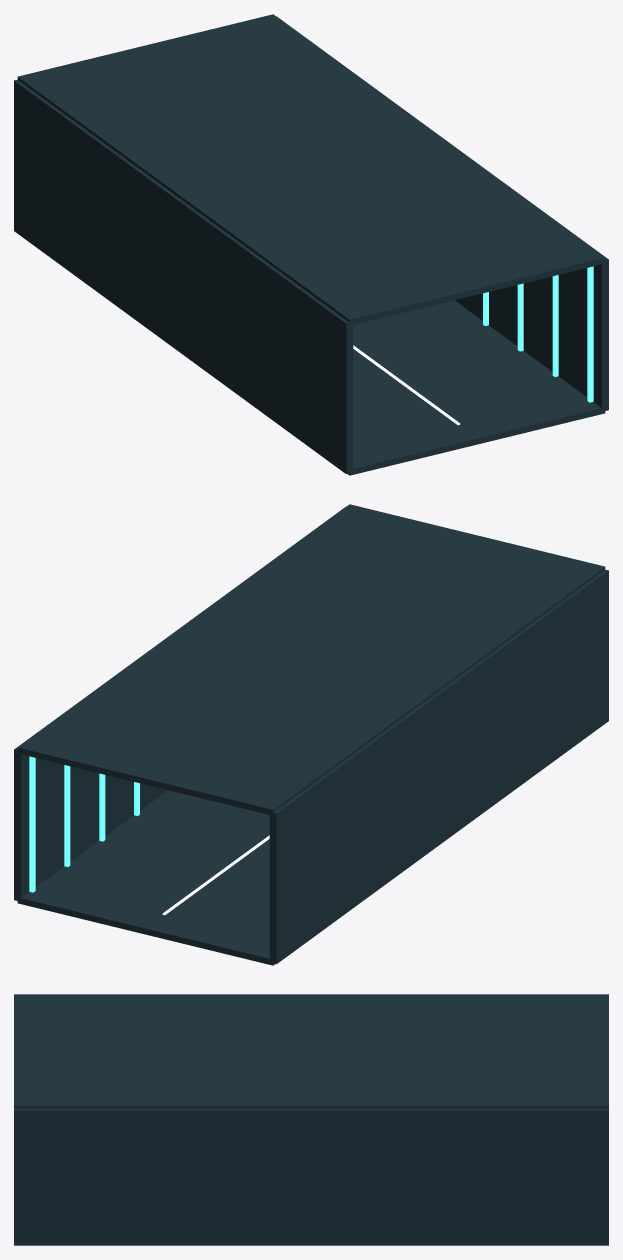
File: genesis-hallway.glb
3 renders of one model, top to bottom at view 1: azimuth 30°, elevation 25°; view 2: azimuth 150°, elevation 25°; view 3: azimuth 270°, elevation 25°, orthographic. The views are drawn at different scales.
Visible parts, largest first — view 1: ceiling, wall_left, floor, wall_right, right_rib_9, right_rib_8; view 2: ceiling, wall_left, floor, wall_right, right_rib_0, right_rib_1; view 3: wall_right, ceiling, floor.
Part boxes in pixels (left/top/right/bottom): ceiling: left=17, top=14, right=605, bottom=324; wall_left: left=14, top=79, right=353, bottom=474; floor: left=348, top=300, right=605, bottom=475; wall_right: left=276, top=16, right=608, bottom=411; right_rib_9: left=587, top=266, right=593, bottom=402; right_rib_8: left=552, top=275, right=558, bottom=376; ceiling: left=17, top=504, right=605, bottom=814; wall_left: left=269, top=569, right=608, bottom=964; floor: left=17, top=790, right=274, bottom=965; wall_right: left=14, top=506, right=346, bottom=901; right_rib_0: left=29, top=756, right=35, bottom=892; right_rib_1: left=64, top=765, right=70, bottom=866; wall_right: left=14, top=1108, right=608, bottom=1244; ceiling: left=14, top=994, right=608, bottom=1108; floor: left=14, top=1245, right=608, bottom=1245.
Size of the model in its own units: 8.22 by 4.66 by 18.
